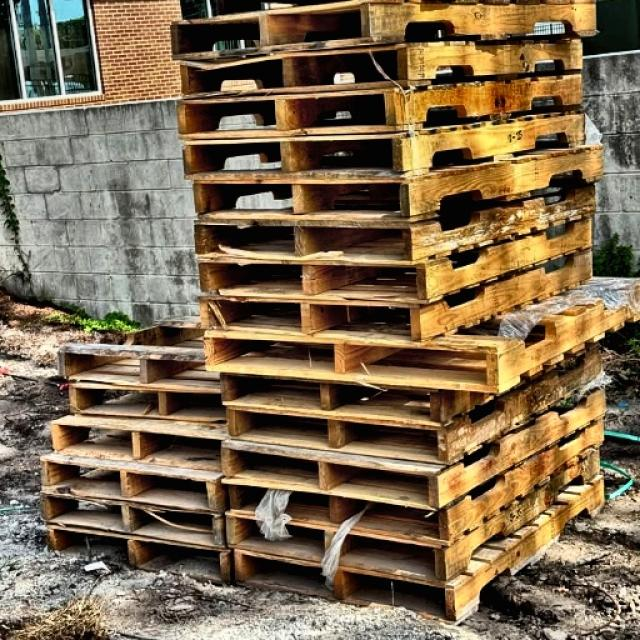non-igps: (224, 466, 618, 632), (219, 434, 607, 592), (217, 408, 613, 551), (199, 266, 639, 391), (220, 334, 612, 471), (215, 379, 621, 511), (192, 204, 598, 320), (187, 172, 609, 276), (190, 136, 614, 236), (190, 246, 603, 344), (178, 104, 596, 189), (169, 64, 592, 147), (174, 34, 594, 109), (158, 0, 608, 68), (214, 364, 463, 440), (29, 442, 230, 521), (37, 484, 232, 554), (42, 408, 230, 478), (36, 524, 238, 589), (163, 0, 399, 50), (50, 331, 225, 394), (60, 375, 231, 434)
